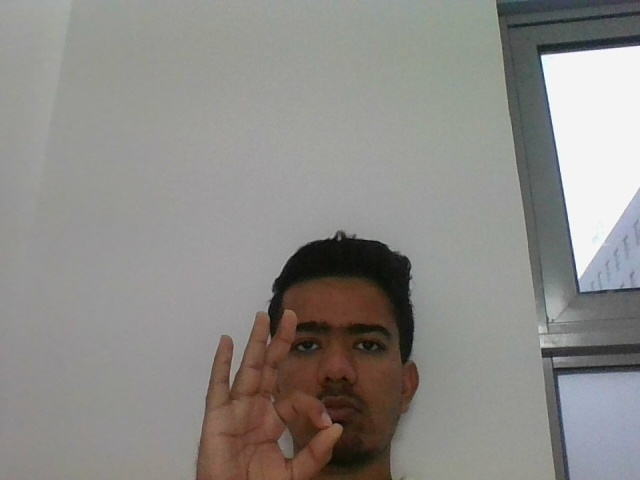ok: (193, 308, 343, 480)
